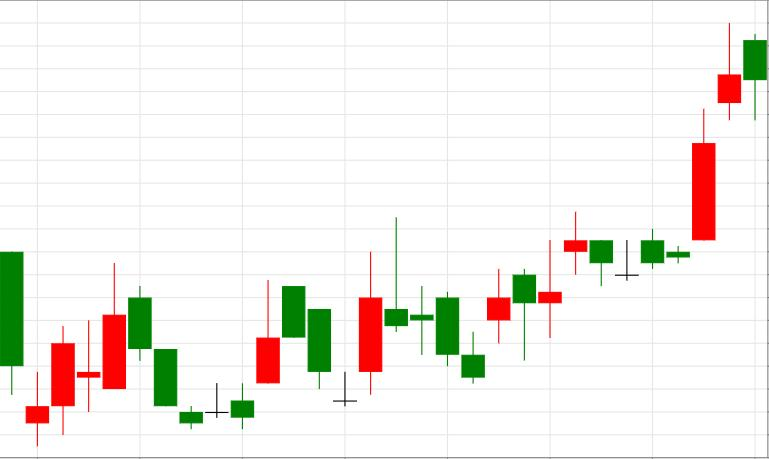shooting_star_fall: (538, 23, 741, 338)
